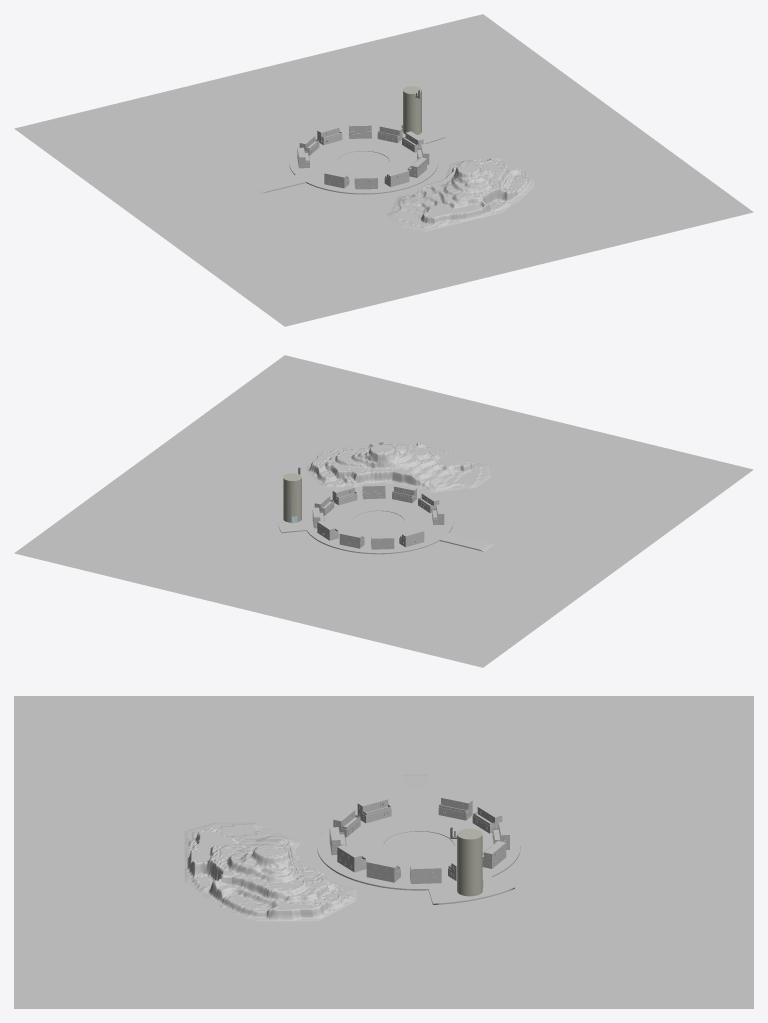
File: SM_Cidade_Final.fbx
3 renders of one model, top to bottom at view 1: azimuth 30°, elevation 25°; view 2: azimuth 150°, elevation 25°; view 3: azimuth 270°, elevation 25°, orthographic. The views are drawn at different scales.
Visible parts, largest first — view 1: Fase_02; view 2: Fase_02; view 3: Fase_02.
Part boxes in pixels (bbox=[...]): Fase_02: bbox=[14, 14, 753, 326]; Fase_02: bbox=[14, 355, 753, 667]; Fase_02: bbox=[14, 696, 753, 1008].
Size of the model in its own units: 99804 by 9645 by 99804.
